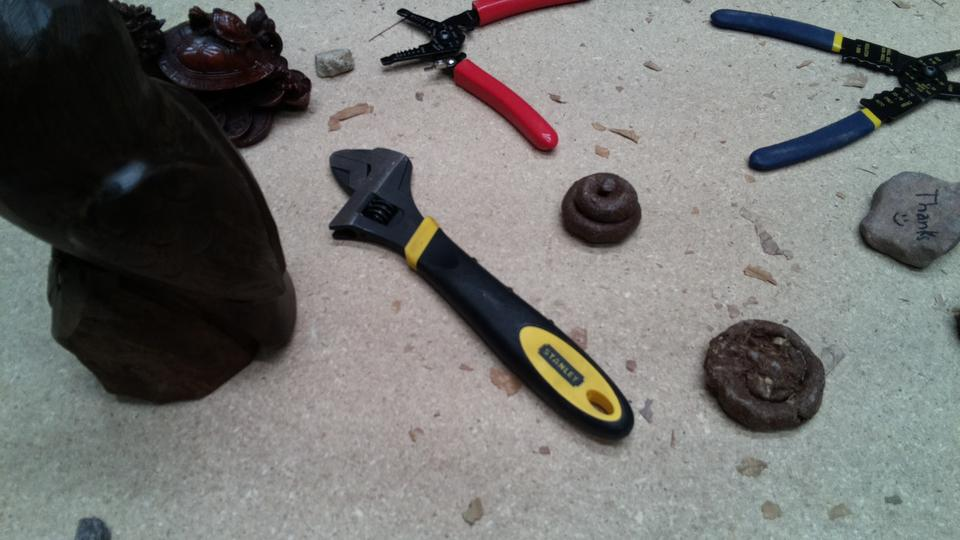poop: (699, 316, 830, 439), (557, 167, 646, 252)
